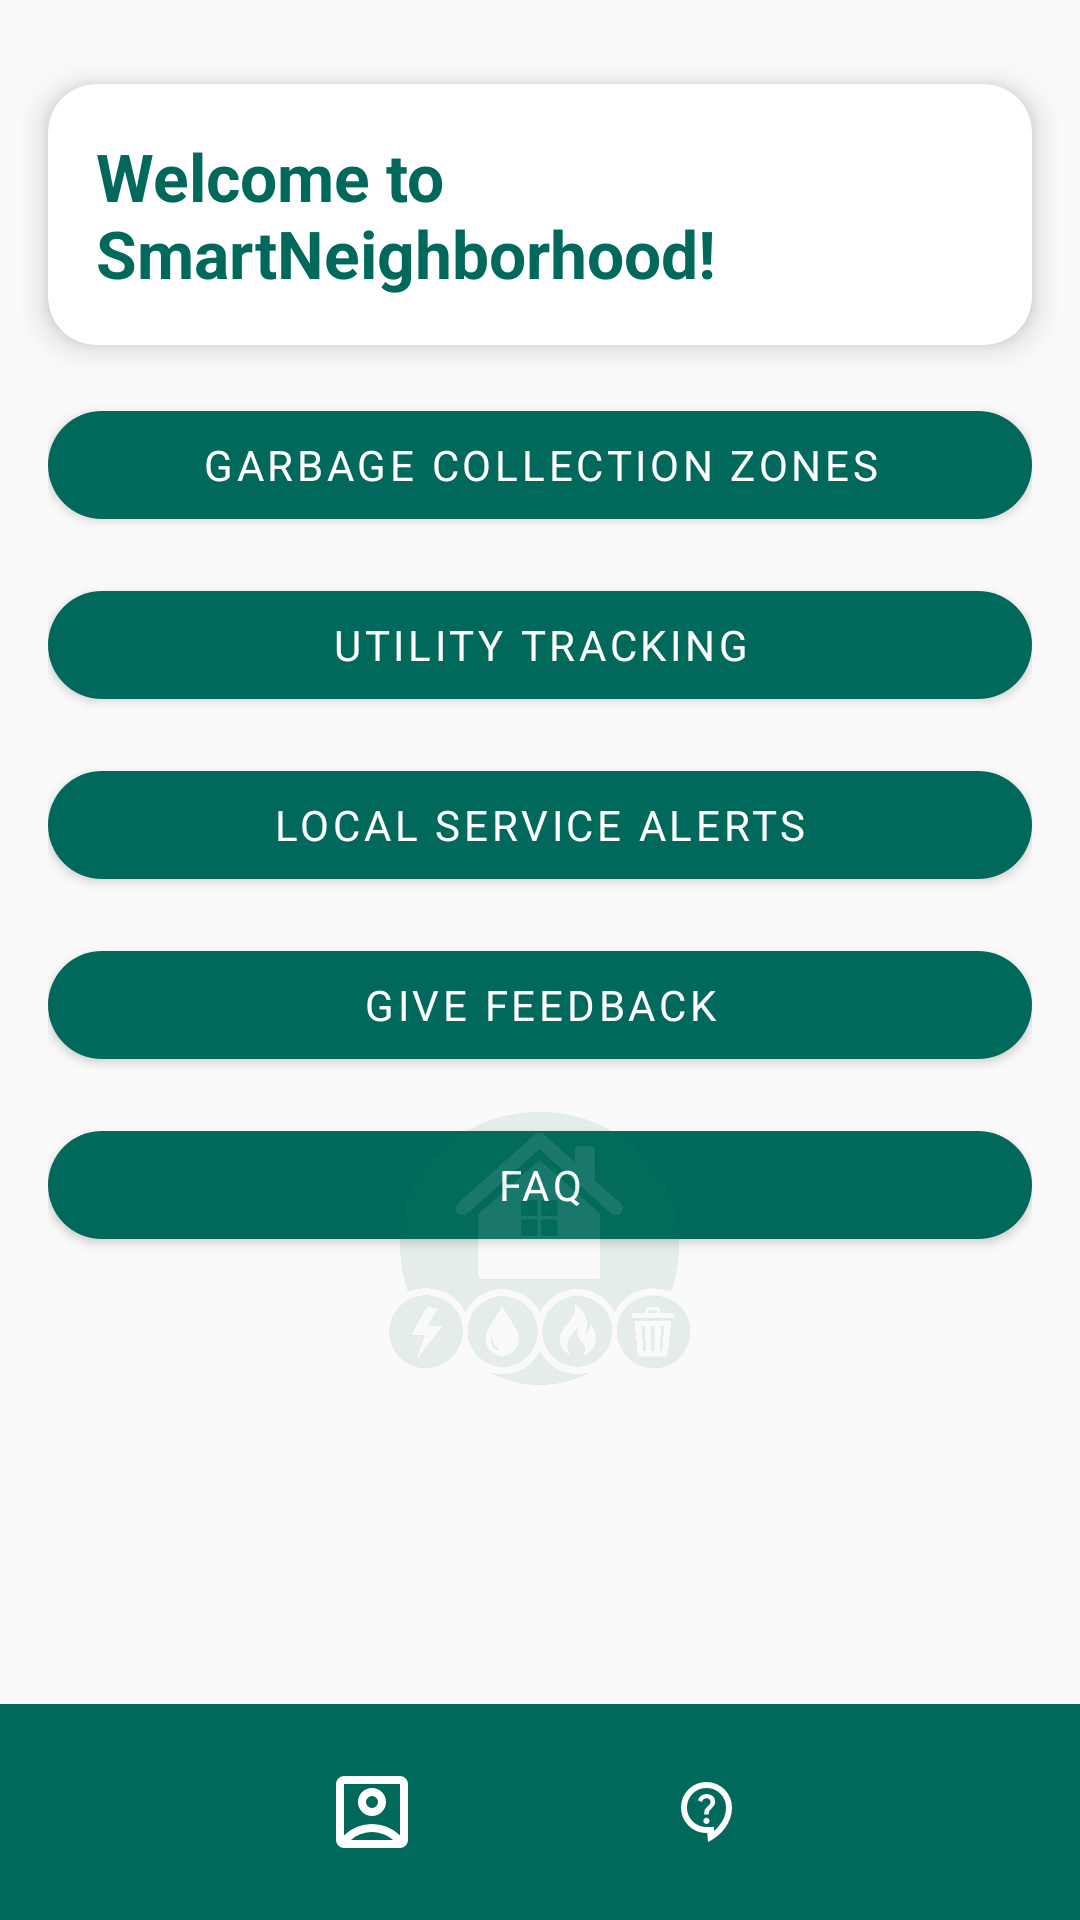

Where icons sit on this 1080w x 1920h app screen, as (x1, y1, x2, y2):
FAQ: (681, 1782, 732, 1842)
Profile: (336, 1776, 408, 1848)
